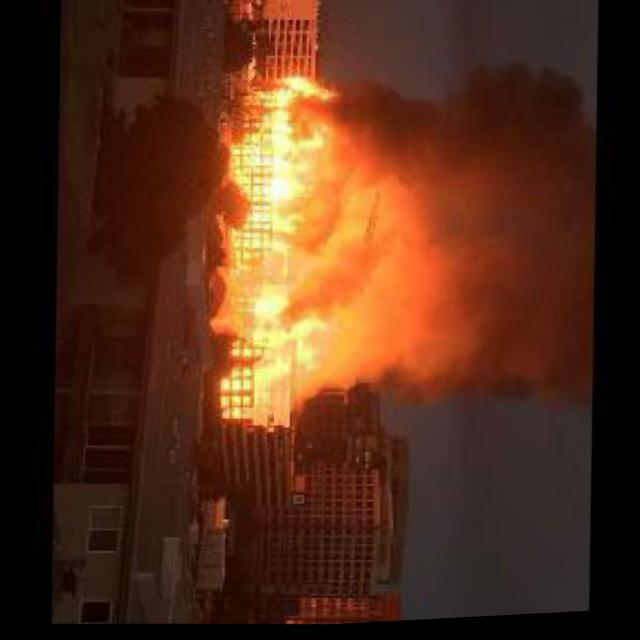Fire: (320, 50, 608, 442), (197, 68, 350, 440)
